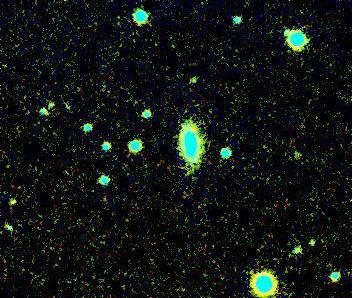star: (177, 66, 207, 96)
